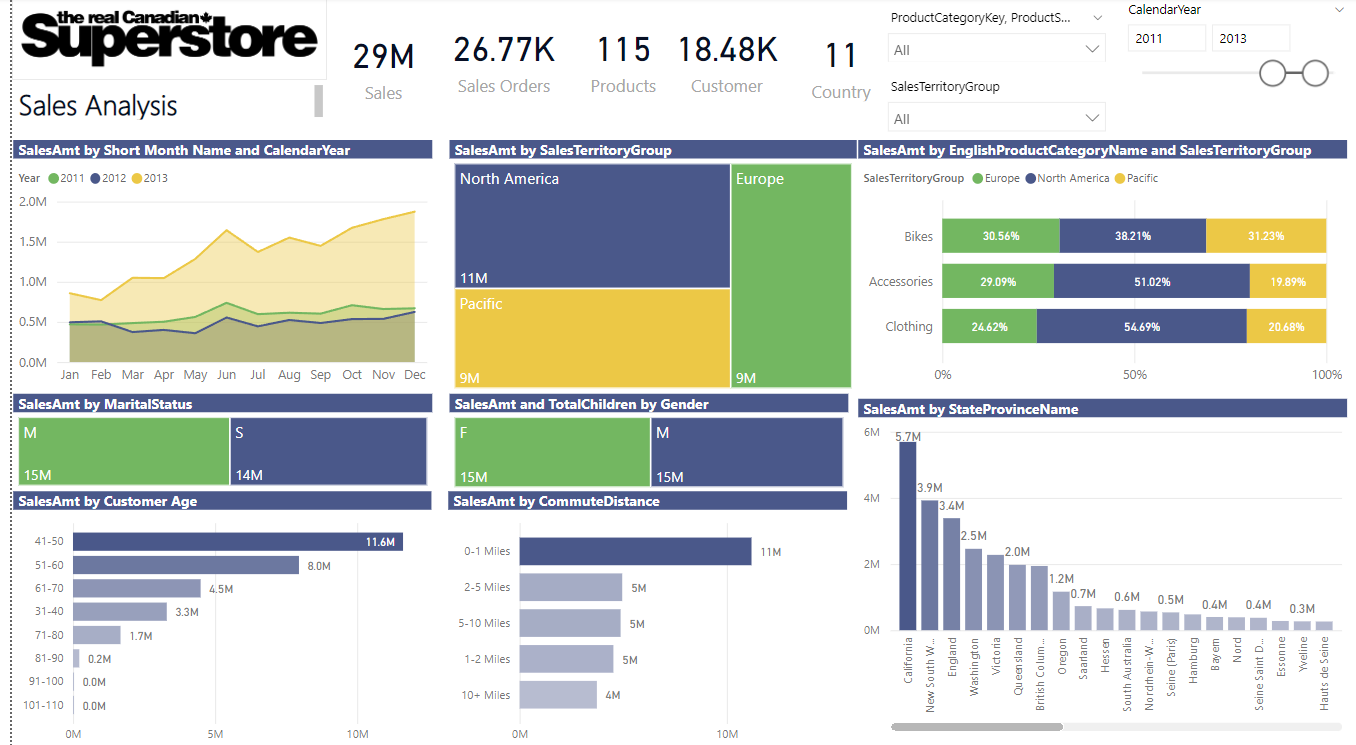

This screenshot's page, from the dashboard's own definition file:
{"tool":"powerbi","page":{"name":"Sales","canvas":[1280,720],"ordinal":0},"visuals":[{"type":"card","fields":{"Values":["MeasureTable.SalesAmt"]},"box":[299.3,15.2,107.6,100.7],"z":0},{"type":"card","fields":{"Values":["Count(FactInternetSales.SalesOrderNumber)"]},"box":[406.9,19.3,122.8,81.4],"z":1000},{"type":"card","fields":{"Values":["Count(DimProduct.EnglishDescription)"]},"box":[537.9,19.3,85.5,81.4],"z":2000},{"type":"card","fields":{"Values":["Count(DimCustomer.CustomerKey)"]},"box":[623.4,19.3,111.7,81.4],"z":3000},{"type":"card","fields":{"Values":["CountNonNull(DimSalesTerritory.SalesTerritoryCountry)"]},"box":[754.5,24.8,67.6,81.4],"z":4000},{"type":"image","box":[0,0,299.3,81.4],"z":5000},{"type":"textbox","box":[1.4,81.4,299.3,42.8],"z":6000},{"type":"areaChart","fields":{"Category":["DimDate.Short Month Name"],"Series":["DimDate.CalendarYear"],"Y":["MeasureTable.SalesAmt"]},"box":[1.4,137.9,398.6,241.4],"z":7000},{"type":"slicer","fields":{"Values":["DimDate.CalendarYear"]},"box":[1048.3,0,231.7,126.9],"z":8000},{"type":"treemap","fields":{"Values":["MeasureTable.SalesAmt"],"Group":["DimSalesTerritory.SalesTerritoryGroup"]},"box":[416.6,137.9,387.6,241.4],"z":9000},{"type":"hundredPercentStackedBarChart","fields":{"Y":["MeasureTable.SalesAmt"],"Series":["DimSalesTerritory.SalesTerritoryGroup"],"Category":["DimProductCategory.EnglishProductCategoryName"]},"box":[804.1,137.9,464.8,241.4],"z":10000},{"type":"treemap","fields":{"Values":["MeasureTable.SalesAmt"],"Group":["DimCustomer.MaritalStatus"]},"box":[1.4,379.3,398.6,92.4],"z":11000},{"type":"treemap","fields":{"Values":["MeasureTable.SalesAmt"],"Group":["DimCustomer.Gender"]},"box":[416.6,379.3,379.3,93.8],"z":12000},{"type":"barChart","fields":{"Category":["DimCustomer.Customer Age"],"Y":["MeasureTable.SalesAmt"]},"box":[1.4,471.7,397.2,248.3],"z":13000},{"type":"barChart","fields":{"Y":["MeasureTable.SalesAmt"],"Category":["DimCustomer.CommuteDistance"]},"box":[415.2,471.7,379.3,248.3],"z":14000},{"type":"columnChart","fields":{"Y":["MeasureTable.SalesAmt"],"Category":["DimGeography.StateProvinceName","DimSalesTerritory.SalesTerritoryGroup"]},"box":[804.1,383.4,464.8,321.4],"z":15000},{"type":"slicer","fields":{"Values":["DimProductSubCategory.ProductCategoryKey","DimProductSubCategory.ProductSubcategoryKey"]},"box":[822.1,8.3,227.6,55.2],"z":16000},{"type":"slicer","fields":{"Values":["DimSalesTerritory.SalesTerritoryGroup"]},"box":[822.1,73.1,227.6,64.8],"z":17000}]}

Visuals, with their boxes in screenshot pixels (x1, y1, x2, y2), scaled from the page's 1280x720 canvas onto the 1356x745 screenshot:
card - MeasureTable.SalesAmt: locate(317, 16, 431, 120)
card - Count(FactInternetSales.SalesOrderNumber): locate(431, 20, 561, 104)
card - Count(DimProduct.EnglishDescription): locate(570, 20, 660, 104)
card - Count(DimCustomer.CustomerKey): locate(660, 20, 779, 104)
card - CountNonNull(DimSalesTerritory.SalesTerritoryCountry): locate(799, 26, 871, 110)
image: locate(0, 0, 317, 84)
textbox: locate(1, 84, 319, 129)
areaChart - DimDate.Short Month Name x DimDate.CalendarYear: locate(1, 143, 424, 392)
slicer - DimDate.CalendarYear: locate(1111, 0, 1355, 131)
treemap - MeasureTable.SalesAmt x DimSalesTerritory.SalesTerritoryGroup: locate(441, 143, 852, 392)
hundredPercentStackedBarChart - MeasureTable.SalesAmt x DimSalesTerritory.SalesTerritoryGroup: locate(852, 143, 1344, 392)
treemap - MeasureTable.SalesAmt x DimCustomer.MaritalStatus: locate(1, 392, 424, 488)
treemap - MeasureTable.SalesAmt x DimCustomer.Gender: locate(441, 392, 843, 490)
barChart - DimCustomer.Customer Age x MeasureTable.SalesAmt: locate(1, 488, 422, 744)
barChart - MeasureTable.SalesAmt x DimCustomer.CommuteDistance: locate(440, 488, 842, 744)
columnChart - MeasureTable.SalesAmt x DimGeography.StateProvinceName: locate(852, 397, 1344, 729)
slicer - DimProductSubCategory.ProductCategoryKey x DimProductSubCategory.ProductSubcategoryKey: locate(871, 9, 1112, 66)
slicer - DimSalesTerritory.SalesTerritoryGroup: locate(871, 76, 1112, 143)
